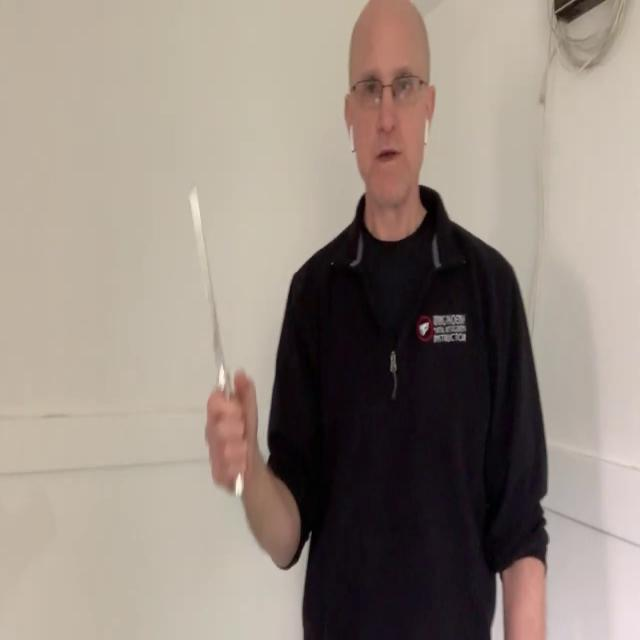Knife_Handle: (188, 186, 258, 499)
